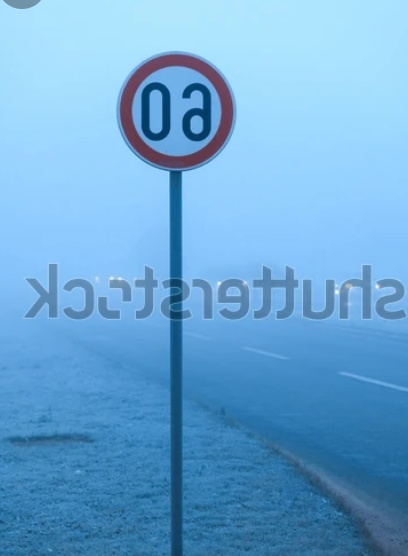Speed limit: (89, 45, 252, 176)
